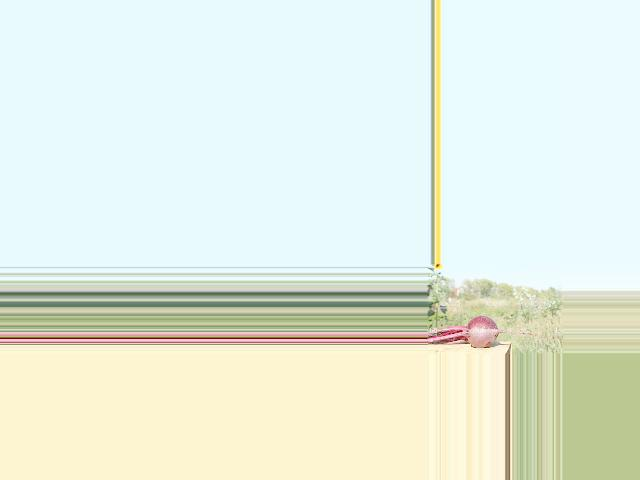beet: (426, 316, 558, 348)
